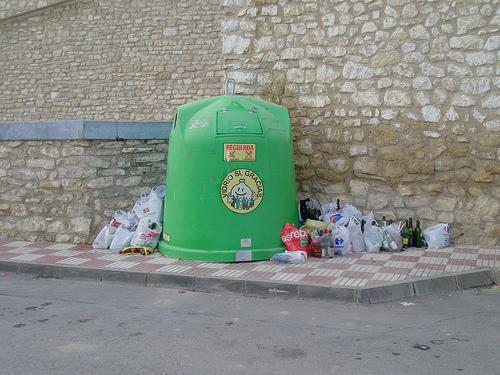Bote de Basura: (152, 95, 301, 259)
